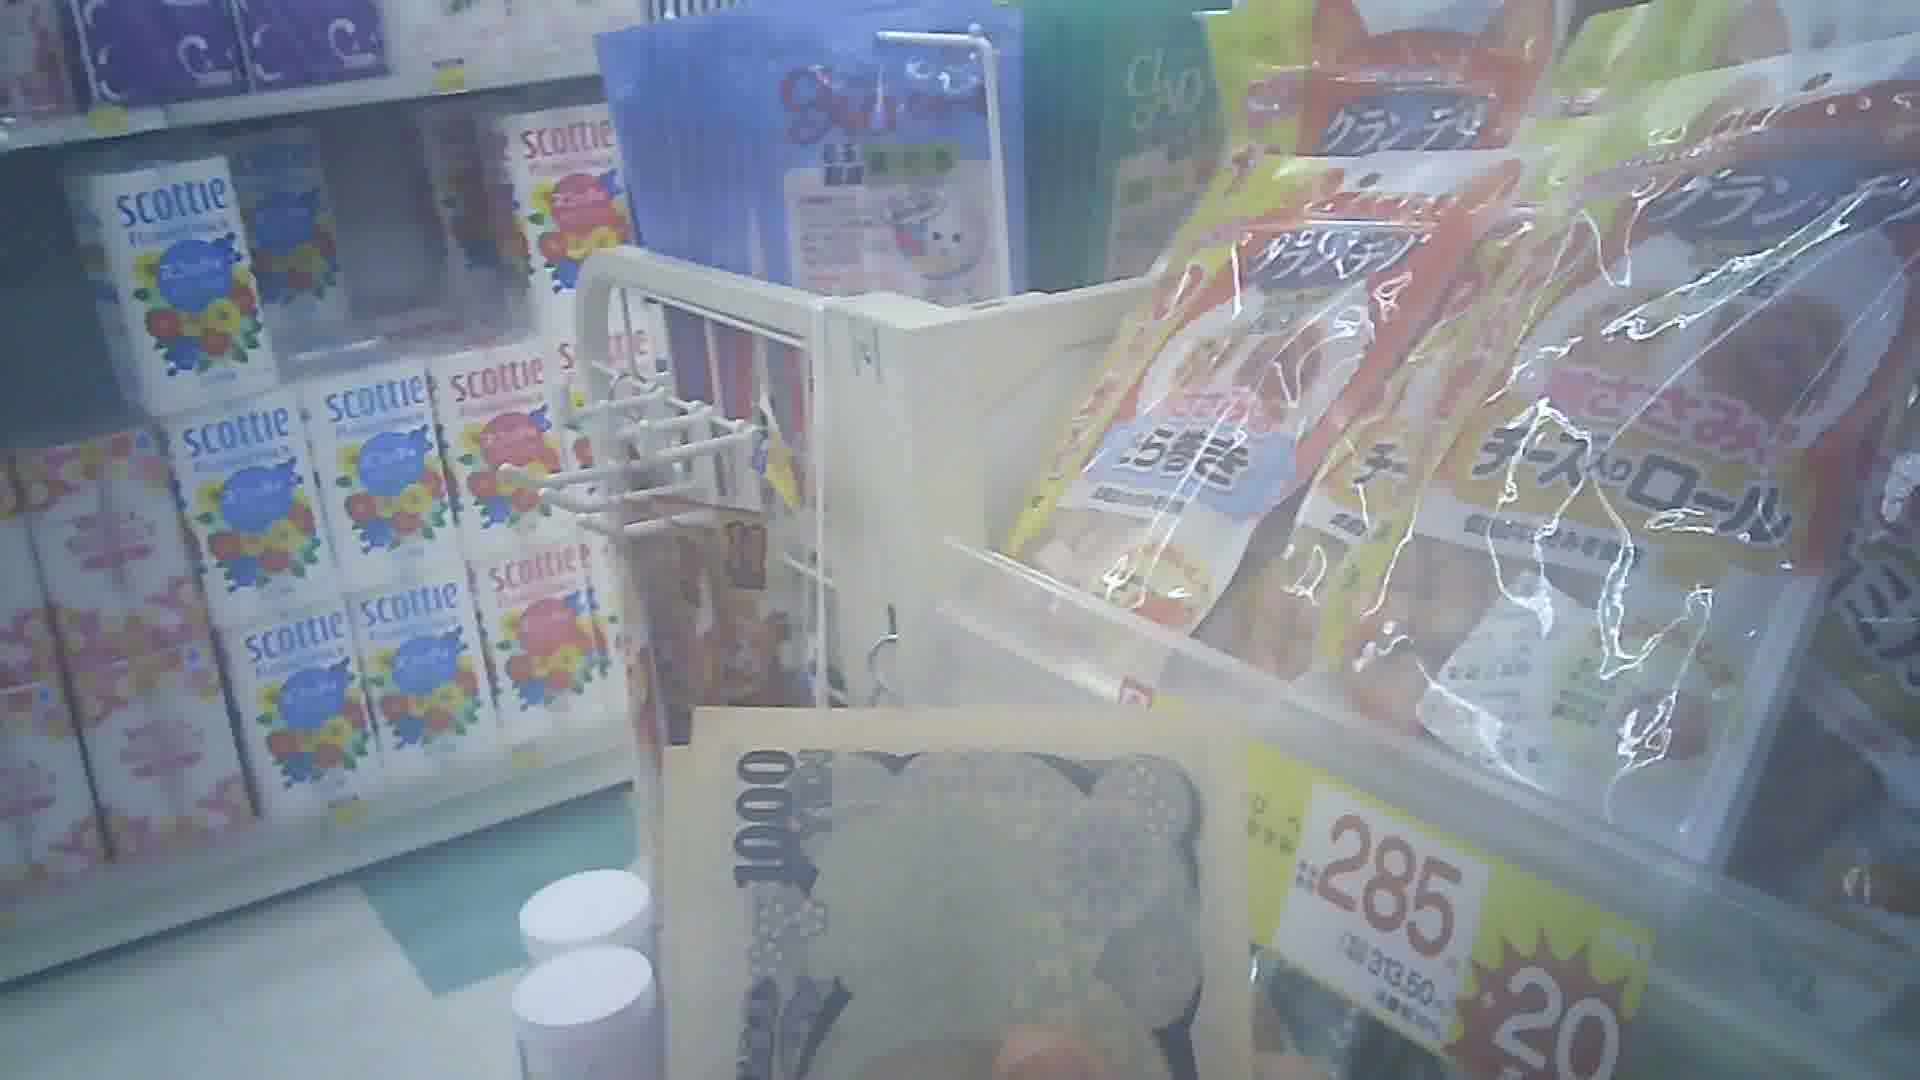1,000 Yen: (651, 696, 1241, 1079)
